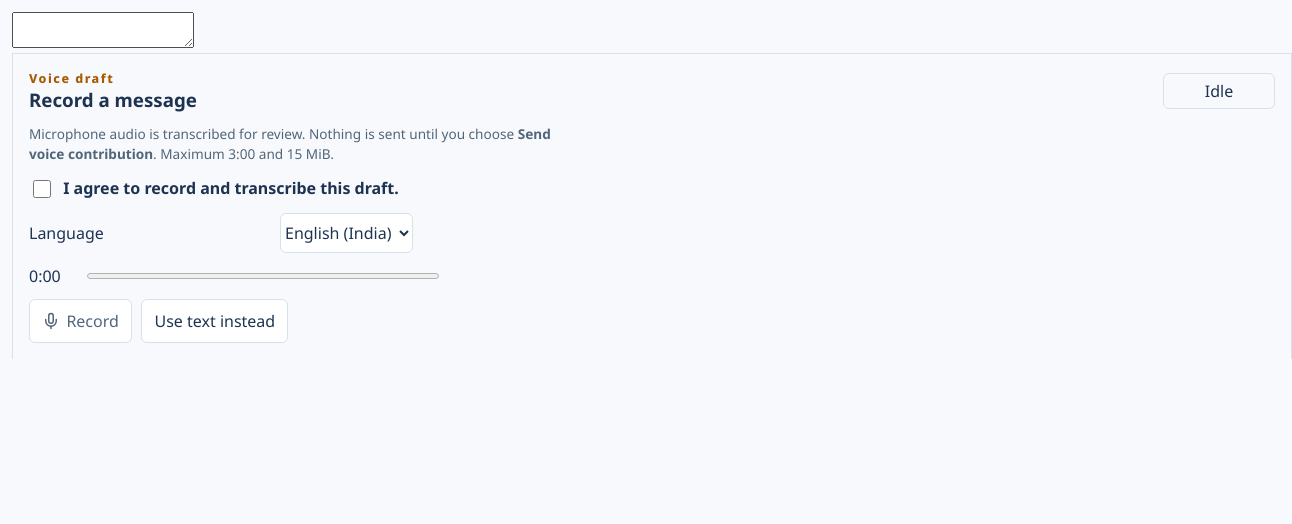
Test: reports upload and transcript failures without enabling send
Click the checkbox at (42, 189), box x1=33 y1=180 x2=51 y2=198
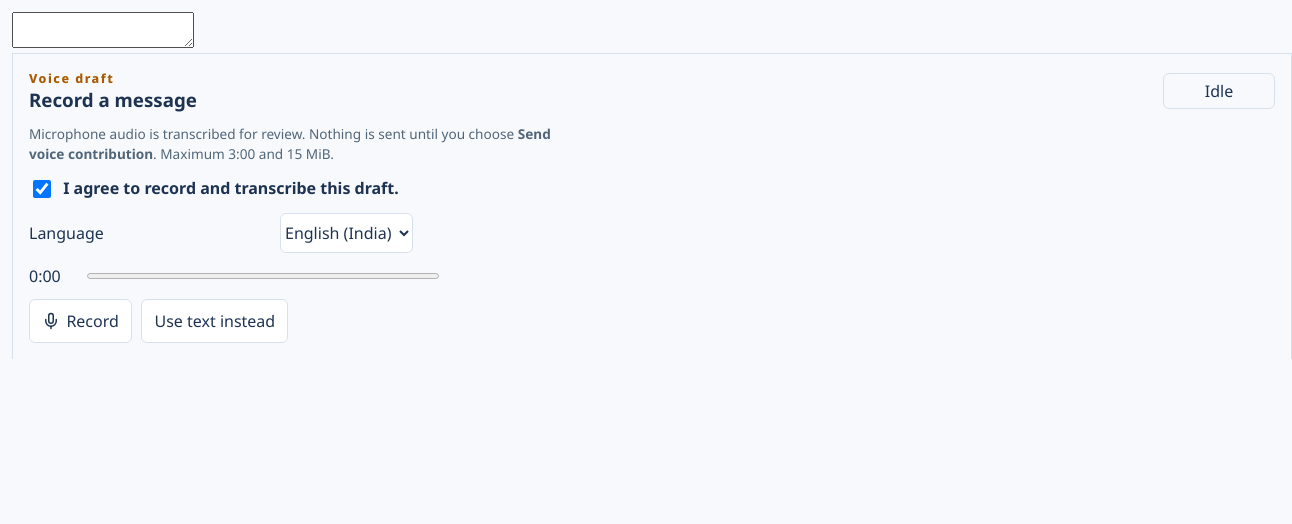
Click the button "Record" at (80, 321), box x1=29 y1=299 x2=132 y2=343
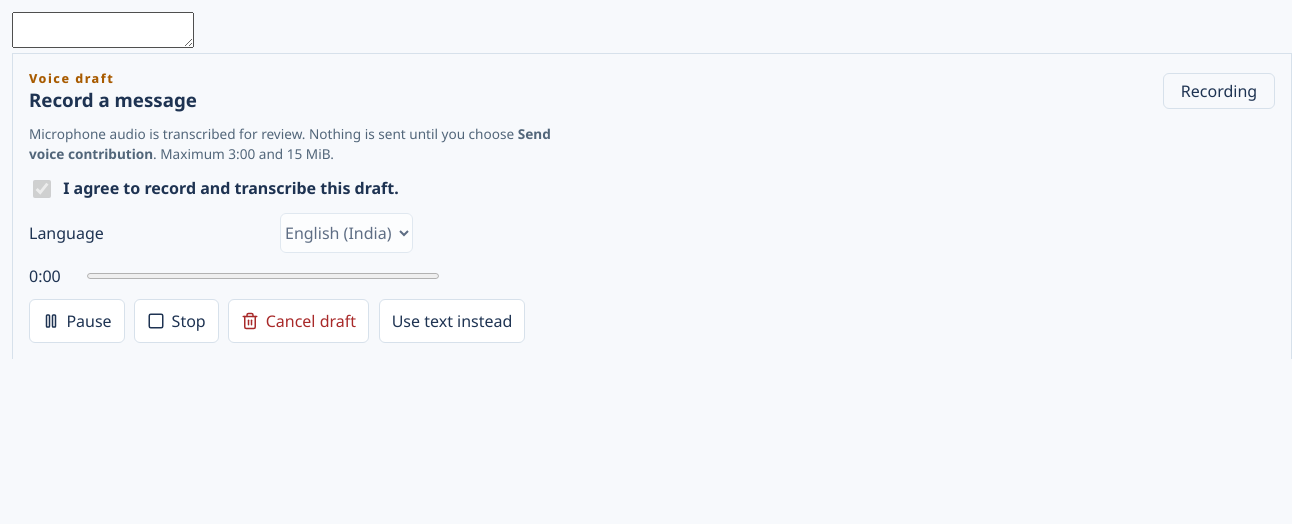
Check: the button "Stop" is shown
Click the button "Stop" at (176, 321), box x1=134 y1=299 x2=219 y2=343
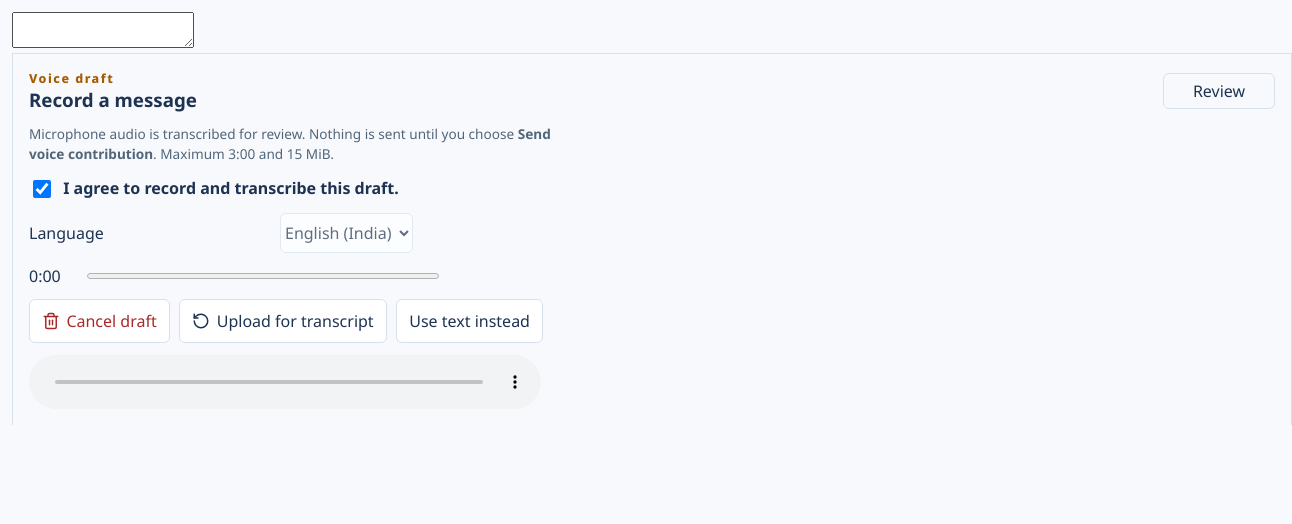
Check: the button "Upload for transcript" is shown
Click the button "Upload for transcript" at (283, 321), box x1=179 y1=299 x2=387 y2=343
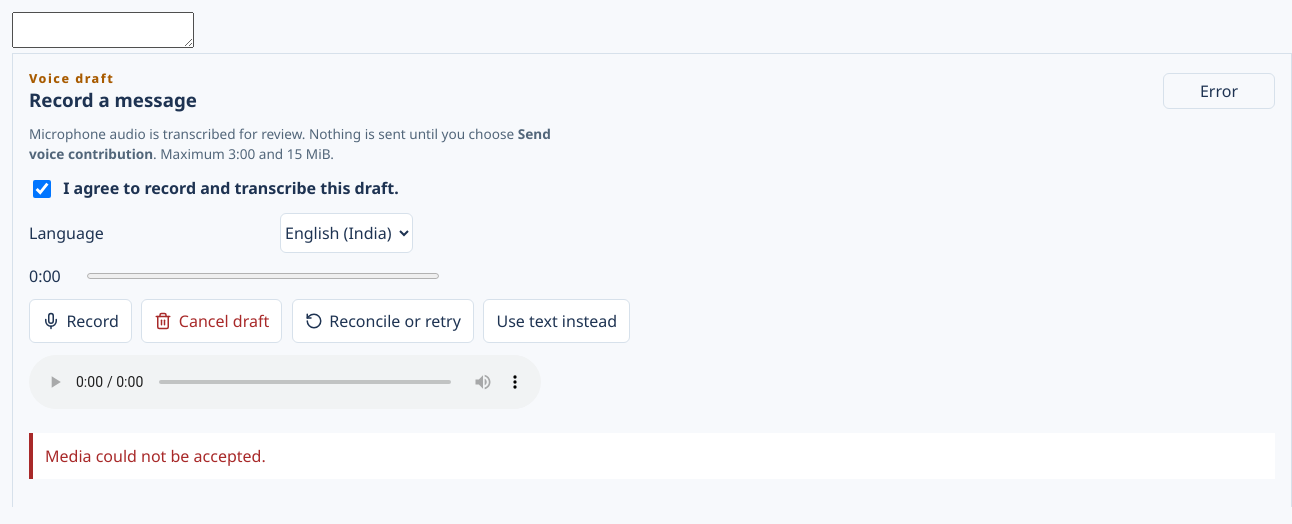
Check: the text "Media could not be accepted." is shown, box x1=29 y1=433 x2=1275 y2=479
Click the button "Reconcile or retry" at (383, 321), box x1=292 y1=299 x2=474 y2=343
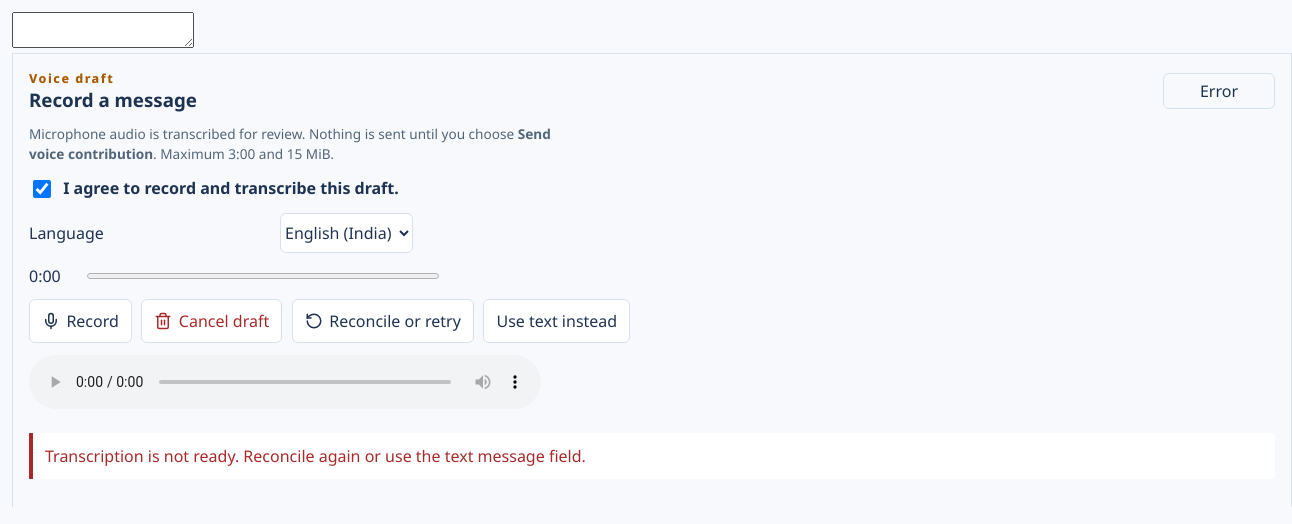
Check: the text "Transcription is not ready. Reconcile again or use the text message field." is shown, box x1=29 y1=433 x2=1275 y2=479
